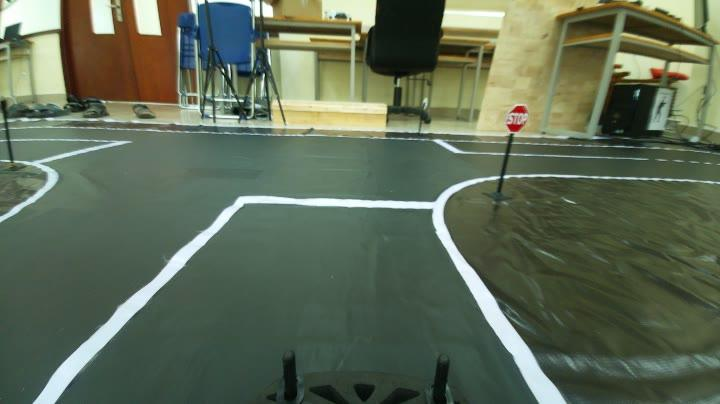stop: (502, 100, 533, 136)
